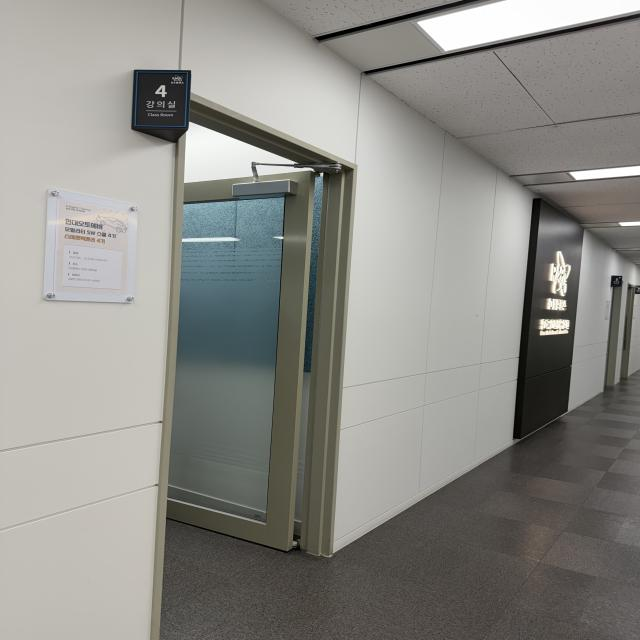room4: (133, 70, 190, 128)
